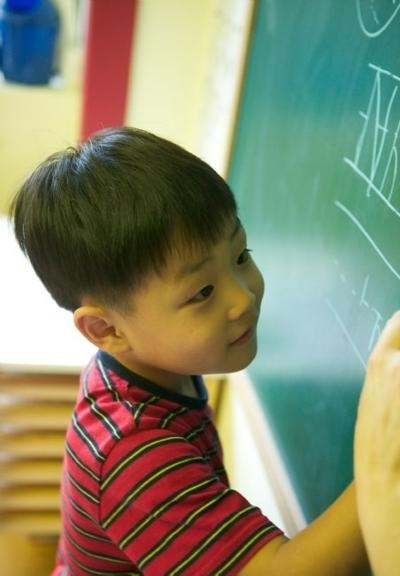person: (9, 126, 399, 573)
